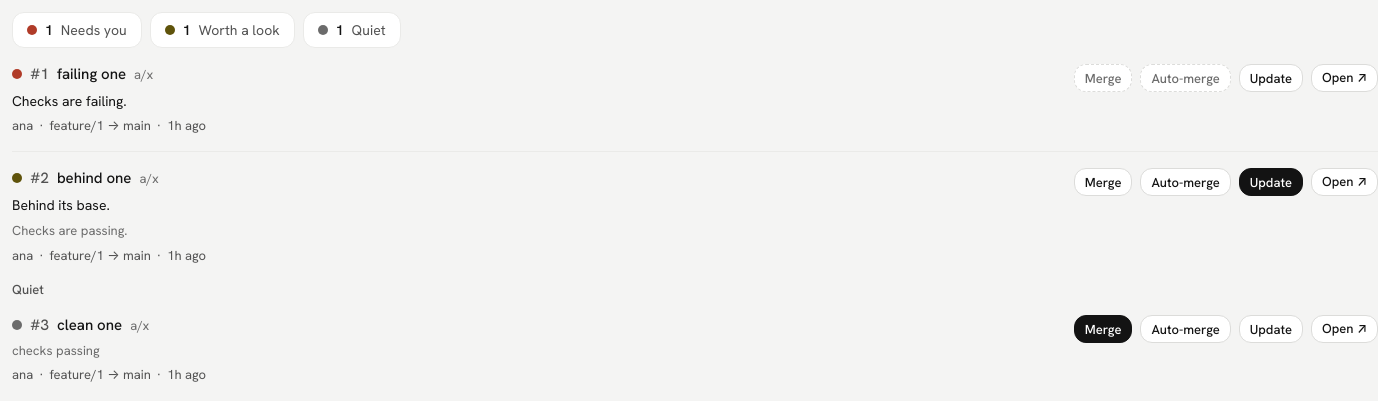
Scenario: PrInbox — tiles, order and filter › filters on a tile and clears on a second click
The width and height of the screenshot is (1378, 401).
Click the button "1 Needs you": x=77, y=30 [12,12,142,48]
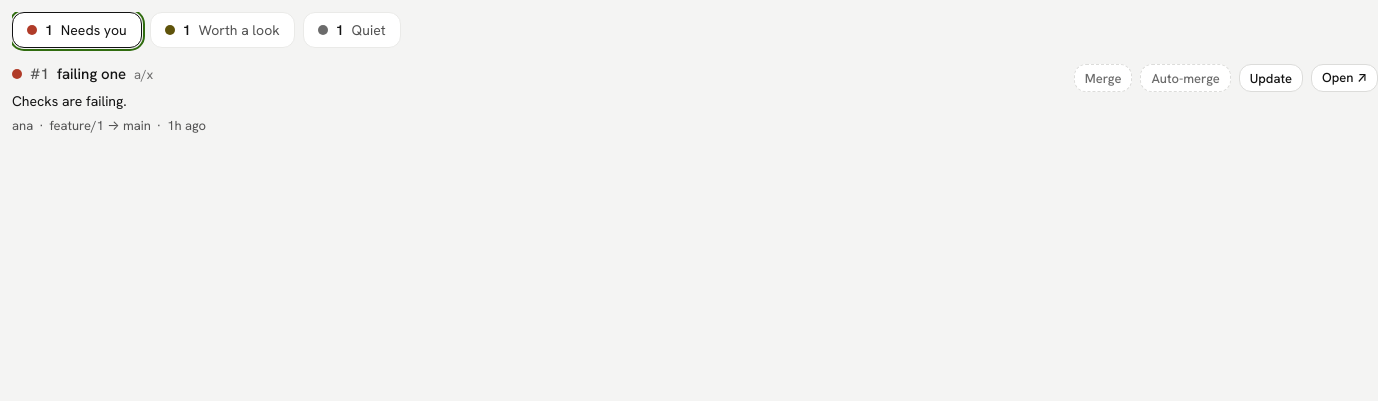
Expected: the list item with test id "pr-row-a/x#1" is shown, [12,64,1377,136]
Now the button "1 Needs you" is pressed
Click the button "1 Needs you": x=77, y=30 [12,12,142,48]
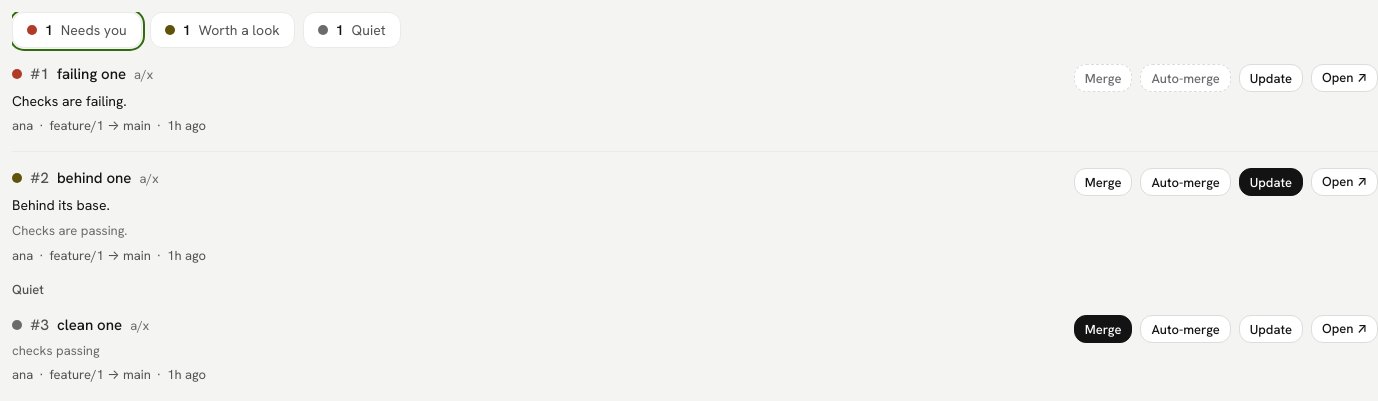
Now the list item with test id "pr-row-a/x#2" is shown, box [12,152,1377,265]
Now the list item with test id "pr-row-a/x#3" is shown, box [12,315,1377,384]
